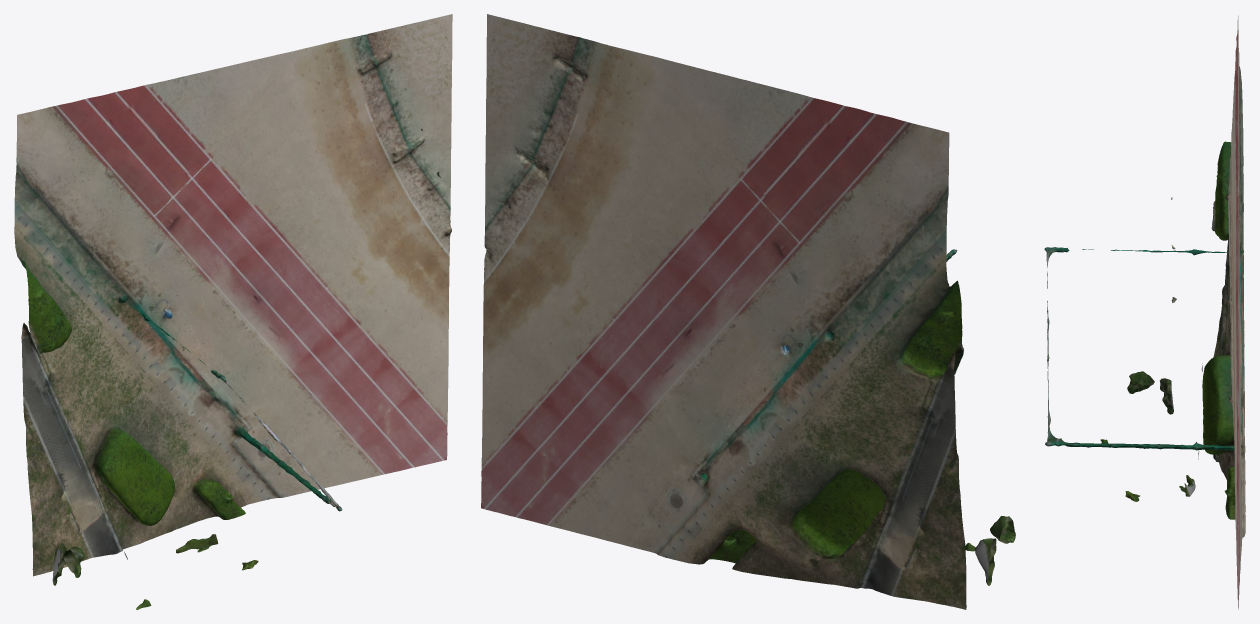
Rendered from Tile_+017_+012.fbx.
3 views of the same model, side by side, from view 1: azimuth 30°, elevation 25°; view 2: azimuth 150°, elevation 25°; view 3: azimuth 270°, elevation 25° (orthographic). The views are drawn at different scales.
Visible parts, largest first — view 1: DefaultName; view 2: DefaultName; view 3: DefaultName.
Boxes of the visible parts, bbox=[...] form: DefaultName: bbox=[14, 14, 452, 609]; DefaultName: bbox=[481, 14, 1015, 609]; DefaultName: bbox=[1044, 15, 1245, 609].
Bounding box in the file's own units: 22.54 × 22.54 × 10.12.
